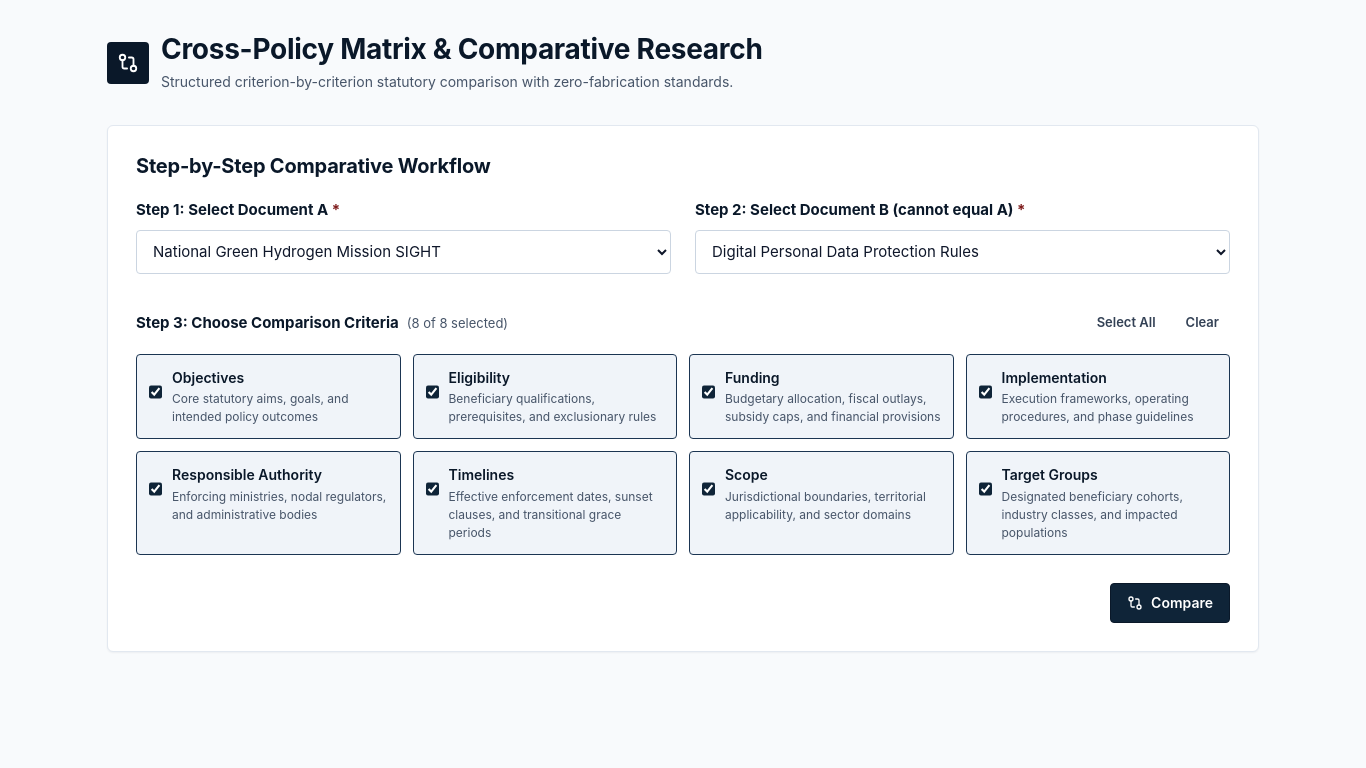
Test: PHASE 5C — Cross-Policy Comparison Flow › enforces validation rule: Document B cannot equal Document A
Set both to doc-1
Select "National Green Hydrogen Mission SIGHT" in the dropdown labelled "Step 1: Select Document A *" at (404, 252), box [136,230,671,274]
Select "National Green Hydrogen Mission SIGHT (Selected as Document A)" in the dropdown labelled "Step 2: Select Document B (cannot equal A) *" at (962, 252), box [695,230,1230,274]
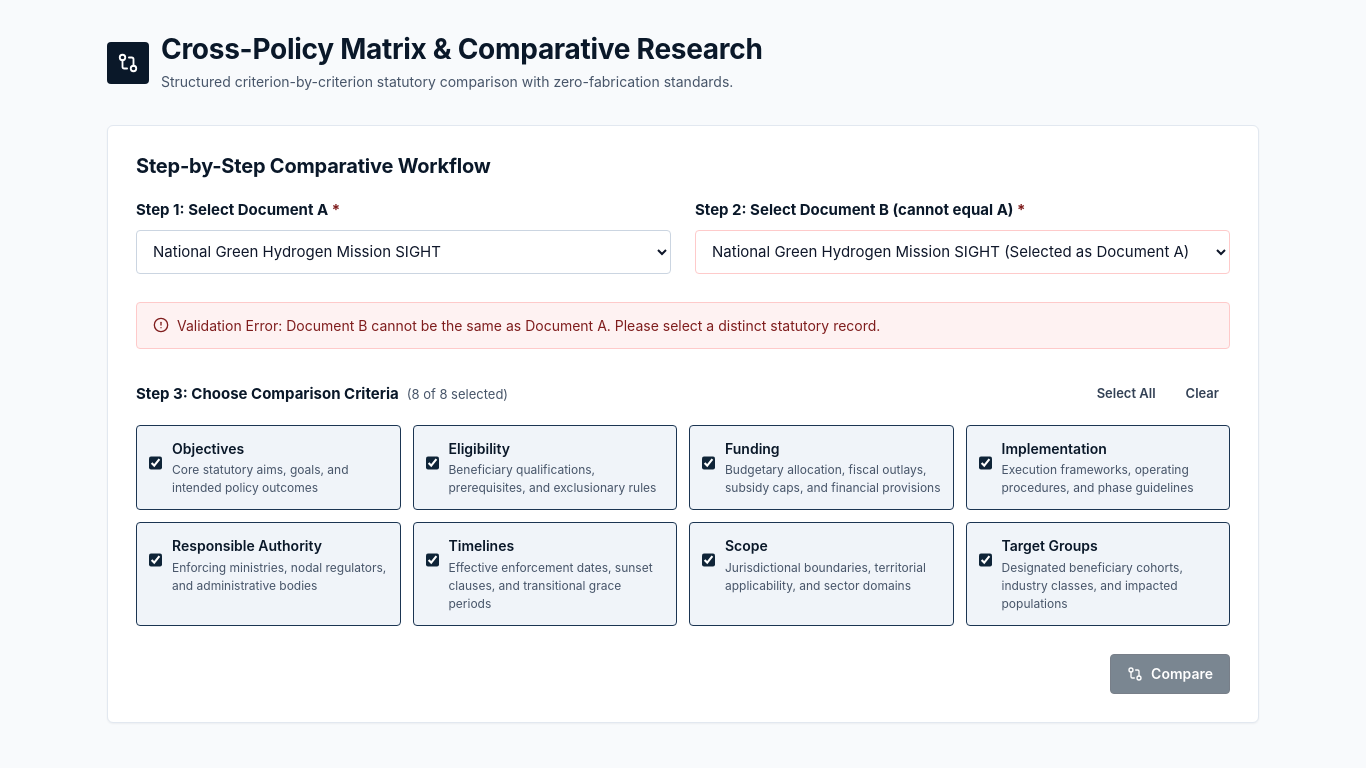
Expected: the text "Validation Error: Document B cannot be the same as Document A" is shown, [177,317,880,334]
Expected: the button "Compare" is disabled, [1110,654,1230,694]
